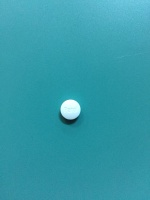Parol: (59, 98, 82, 122)
